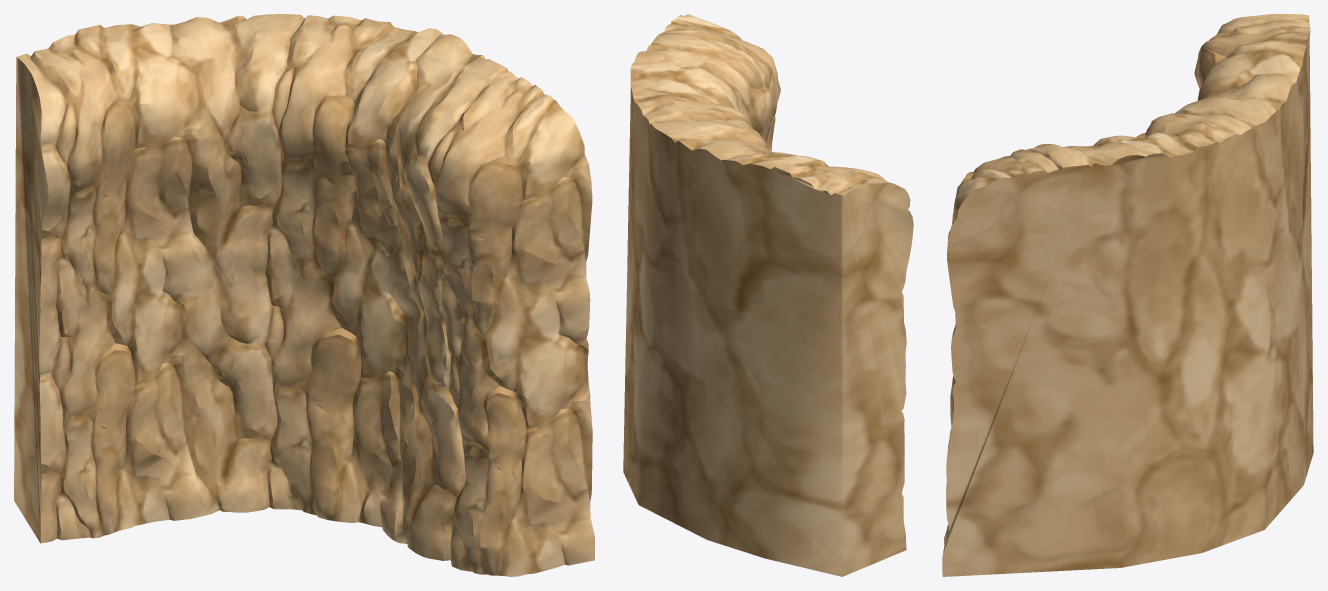
Rendered from SM_ENV_KNFRST_Wall_Ac.FBX.
3 renders of one model, left to right at view 1: azimuth 30°, elevation 25°; view 2: azimuth 150°, elevation 25°; view 3: azimuth 270°, elevation 25°, orthographic. The views are drawn at different scales.
Parts seen in each view (by area): view 1: SM_ENV_KNFRST_Wall_Ac; view 2: SM_ENV_KNFRST_Wall_Ac; view 3: SM_ENV_KNFRST_Wall_Ac.
Boxes of the visible parts, box(x1,y1,x2,y2) form: SM_ENV_KNFRST_Wall_Ac: box(14, 14, 594, 576); SM_ENV_KNFRST_Wall_Ac: box(623, 14, 913, 576); SM_ENV_KNFRST_Wall_Ac: box(942, 14, 1313, 576).
Bounding box in the file's own units: 3928 × 4292 × 3520.
